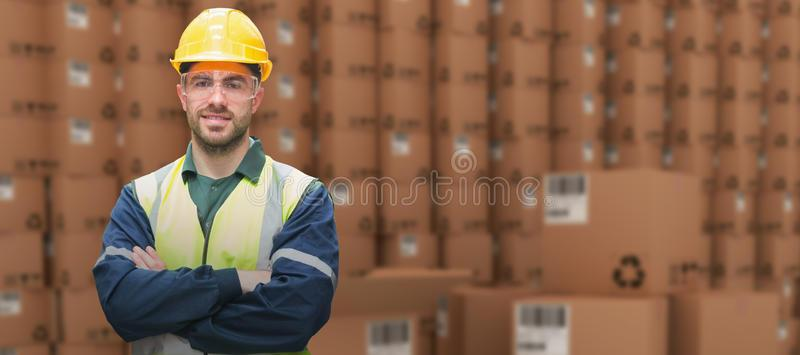helmet: (173, 8, 276, 79)
